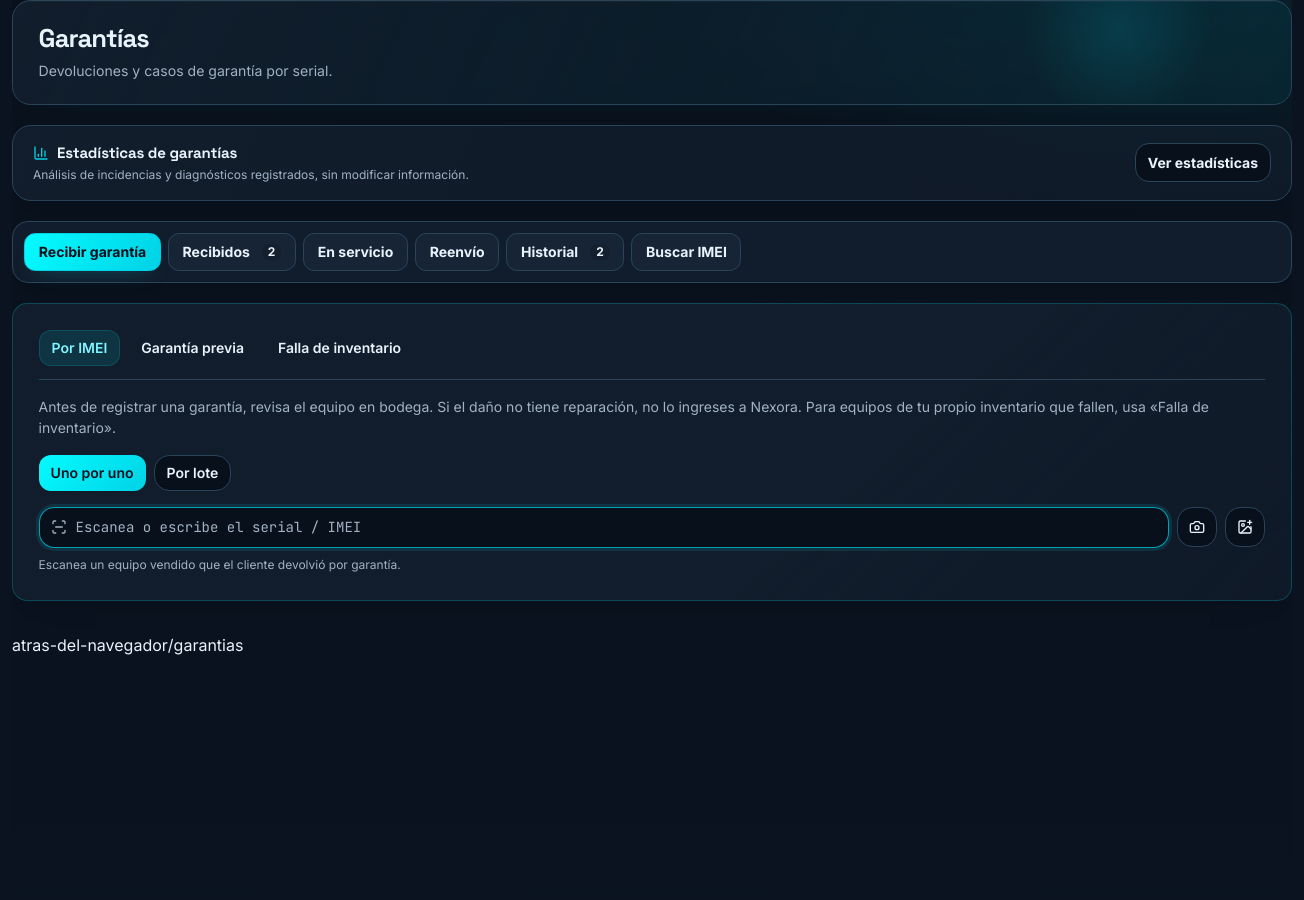
Test: Garantías · pestaña y lotes al ir al detalle y volver › el Historial agrupa todas las garantías de un cliente en una sola línea desplegable
This screenshot has width=1304, height=900.
Step 1. Click the button "Historial 2" → click(565, 252), box [506,233,624,271]
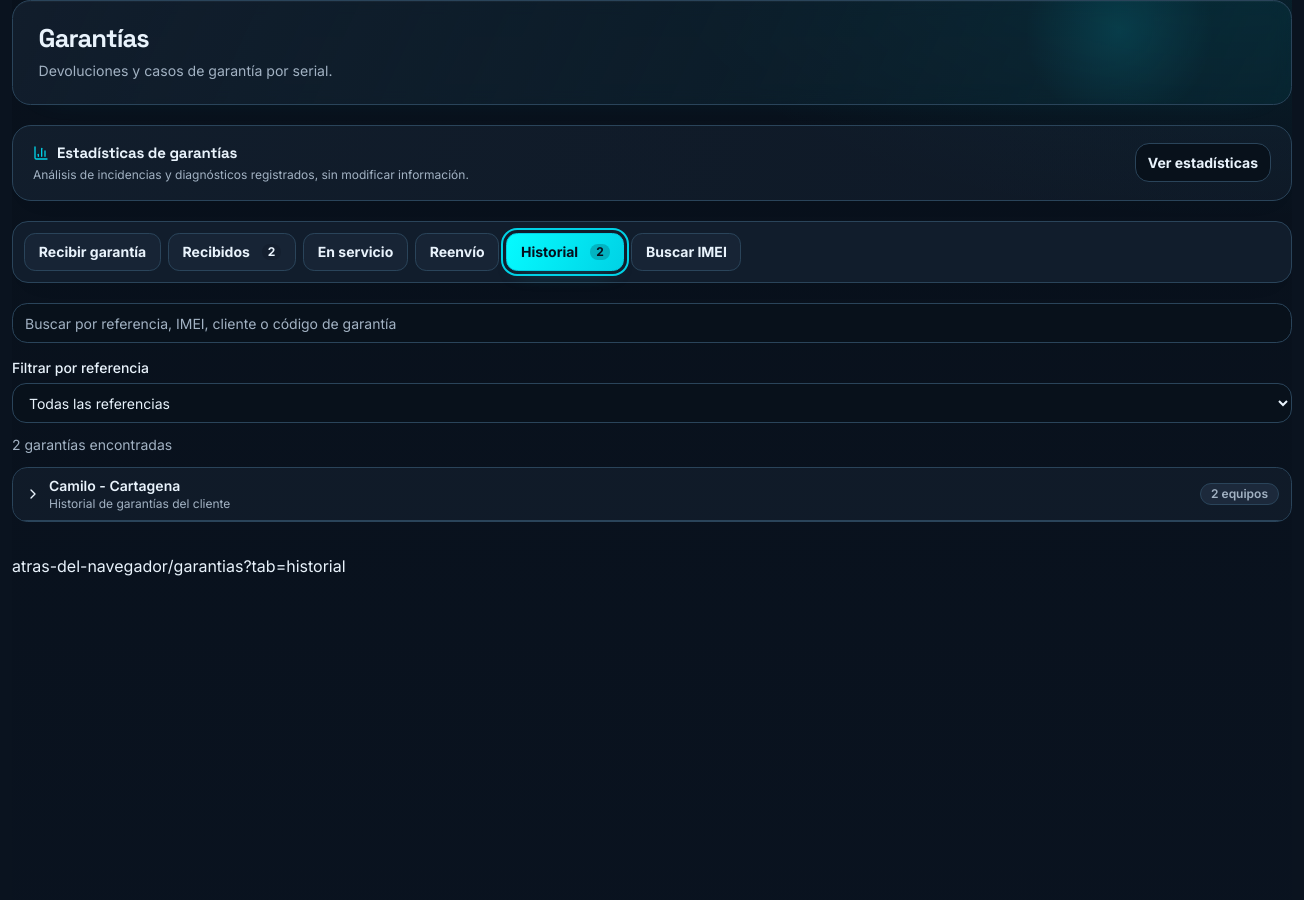
Check: the text "GAR-hist1" is not shown
Check: the text "GAR-hist2" is not shown
Step 2. Click the button "Camilo - Cartagena Historial de garantías del cliente" → click(115, 486), box [25,476,1192,512]
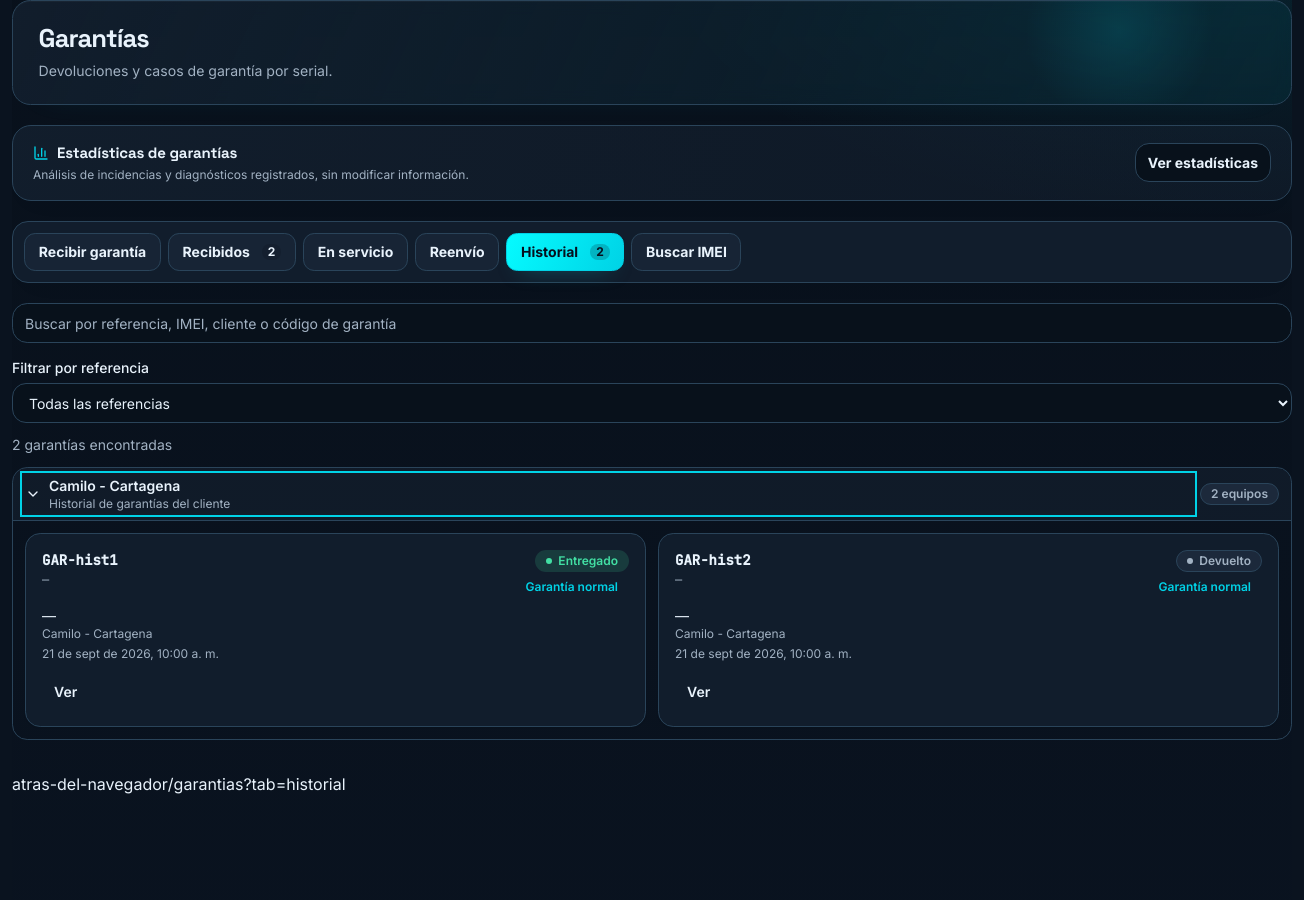
Check: the text "GAR-hist1" is shown, box [42,550,118,570]
Check: the text "GAR-hist2" is shown, box [675,550,751,570]
Check: the button "Camilo - Cartagena Historial de garantías del cliente" is expanded, box [25,476,1192,512]
